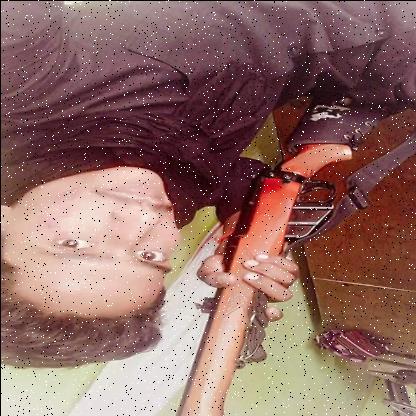rifle: (174, 87, 416, 416)
